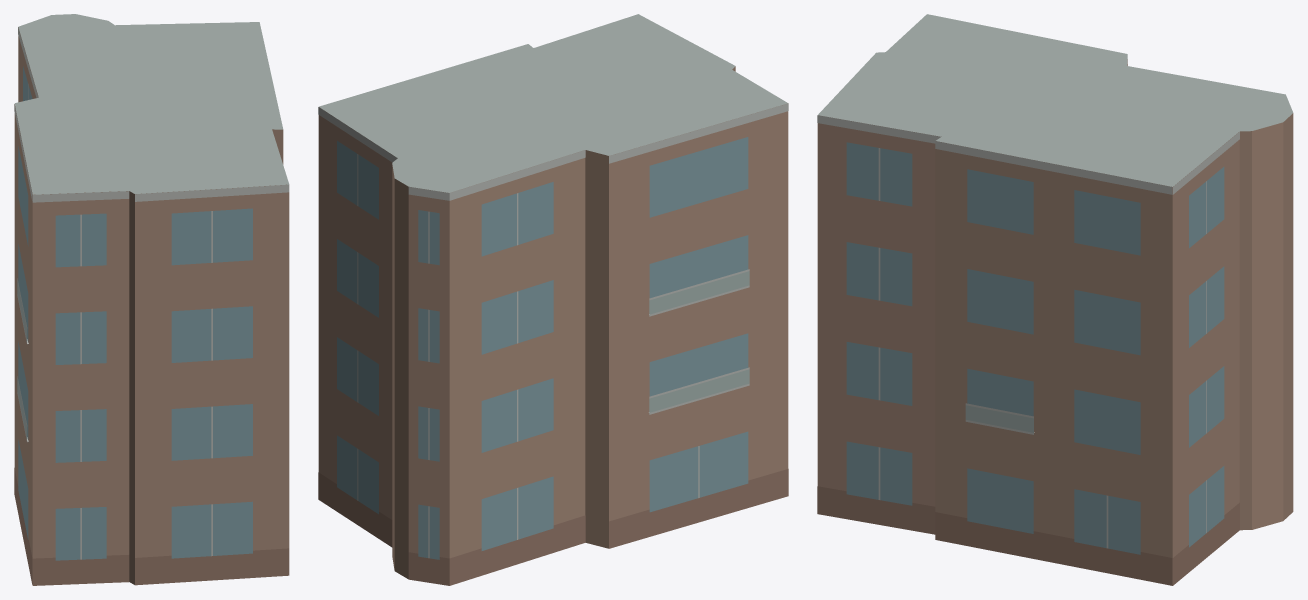
File: survey-upis-32642789.glb
3 renders of one model, left to right at view 1: azimuth 30°, elevation 25°; view 2: azimuth 150°, elevation 25°; view 3: azimuth 270°, elevation 25°, orthographic. The views are drawn at different scales.
Parts seen in each view (by area): view 1: survey-upis-32642789.tmp; view 2: survey-upis-32642789.tmp; view 3: survey-upis-32642789.tmp.
Part boxes in pixels (bbox=[...]): survey-upis-32642789.tmp: bbox=[14, 14, 289, 585]; survey-upis-32642789.tmp: bbox=[318, 14, 788, 585]; survey-upis-32642789.tmp: bbox=[817, 14, 1293, 585].
Size of the model in its own units: 11.35 by 12.2 by 13.2.
